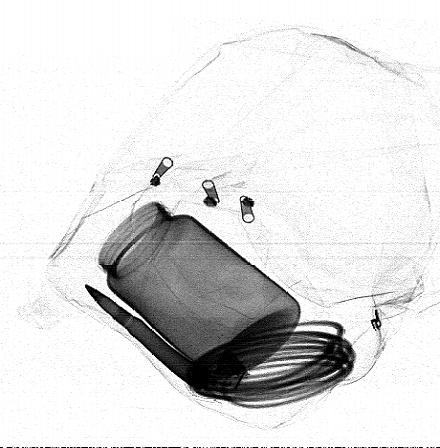Bullet: (82, 282, 198, 385)
